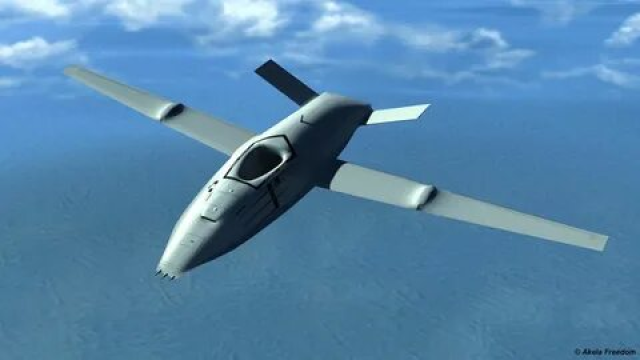military drone: (63, 58, 608, 280)
